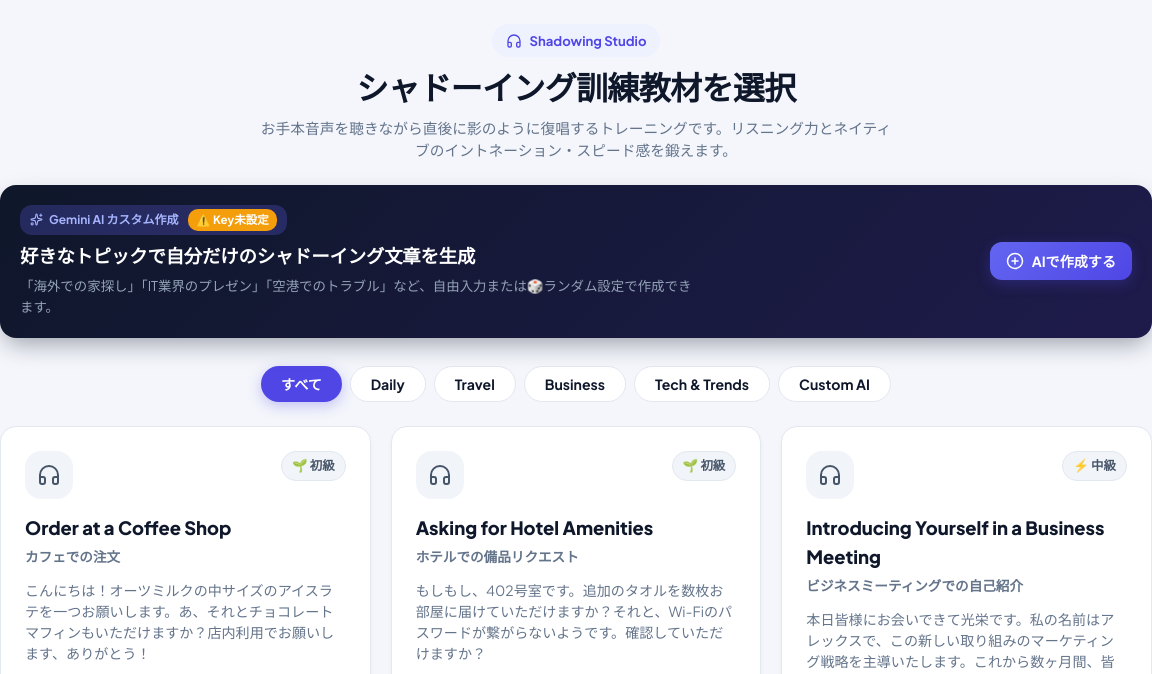
ShadowingSelector component › filters scripts when category button is clicked
The width and height of the screenshot is (1152, 674).
Click "Travel" category
Click the button "Travel". click: (475, 384)
box: [434,366,516,402]
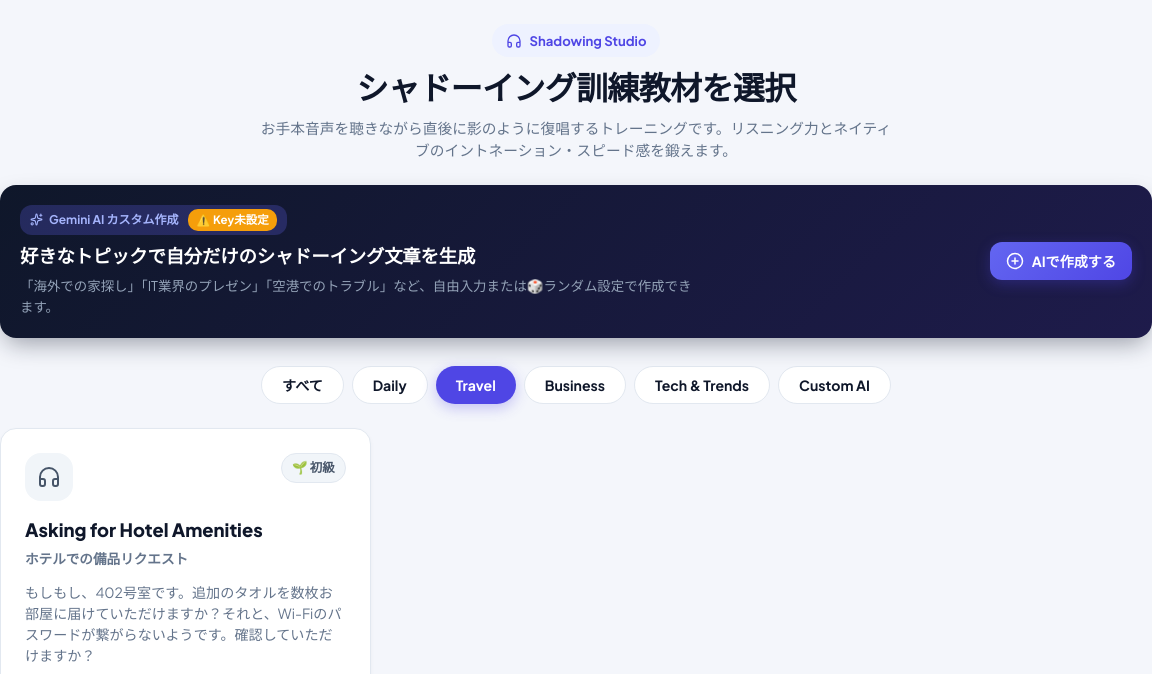
Expected: the text "Asking for Hotel Amenities" is shown, [25,518,263,541]
Now the text "Order at a Coffee Shop" is gone
